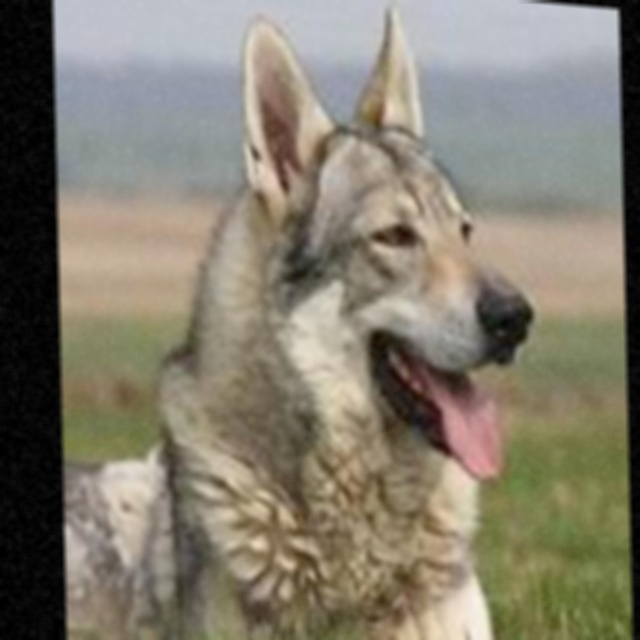dog: (57, 0, 542, 640)
